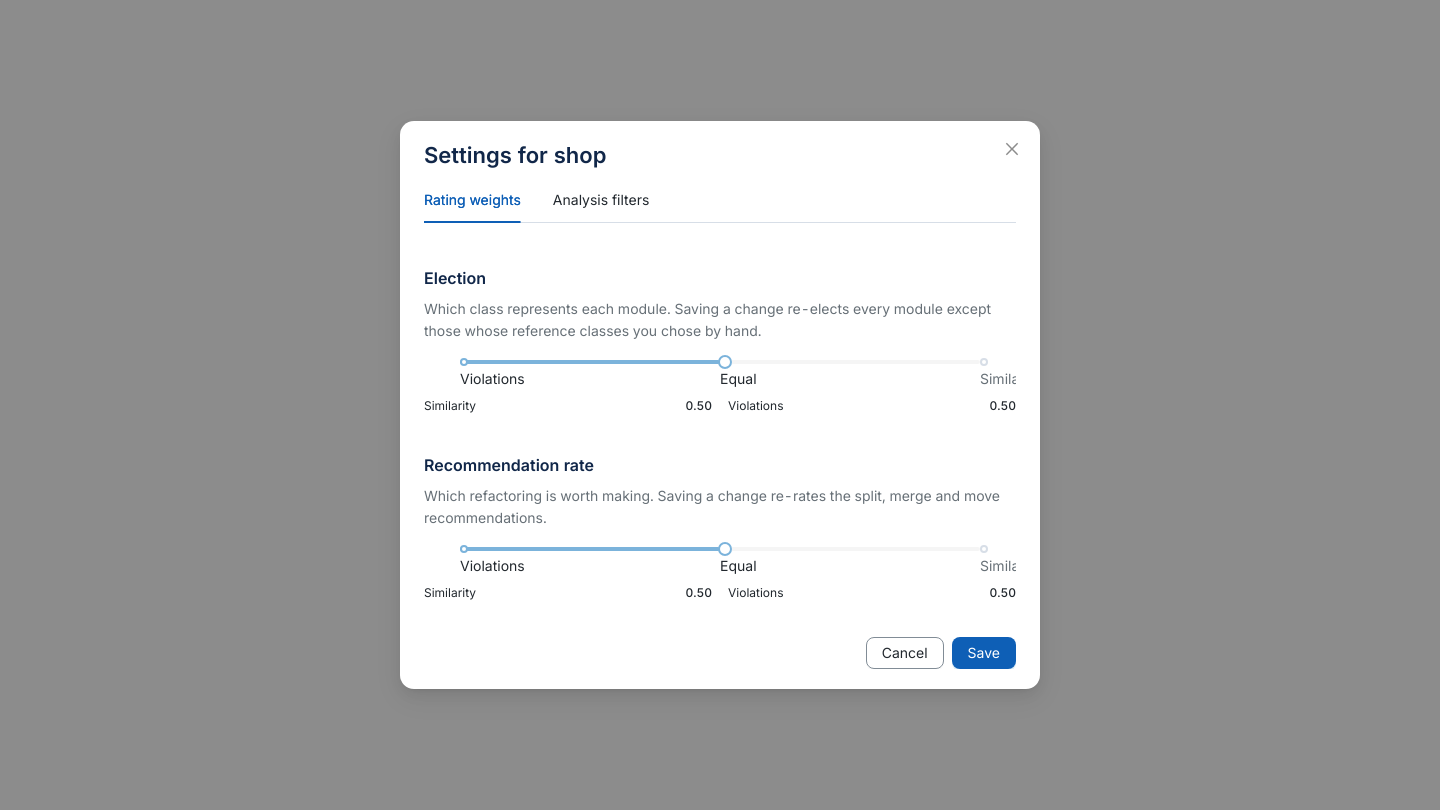
Scenario: SettingsModal › recommendations tab (#36) › shows the project's analysis settings
Click the tab "Analysis filters".
click(601, 200)  # box [553,189,649,211]
(page scrolled)
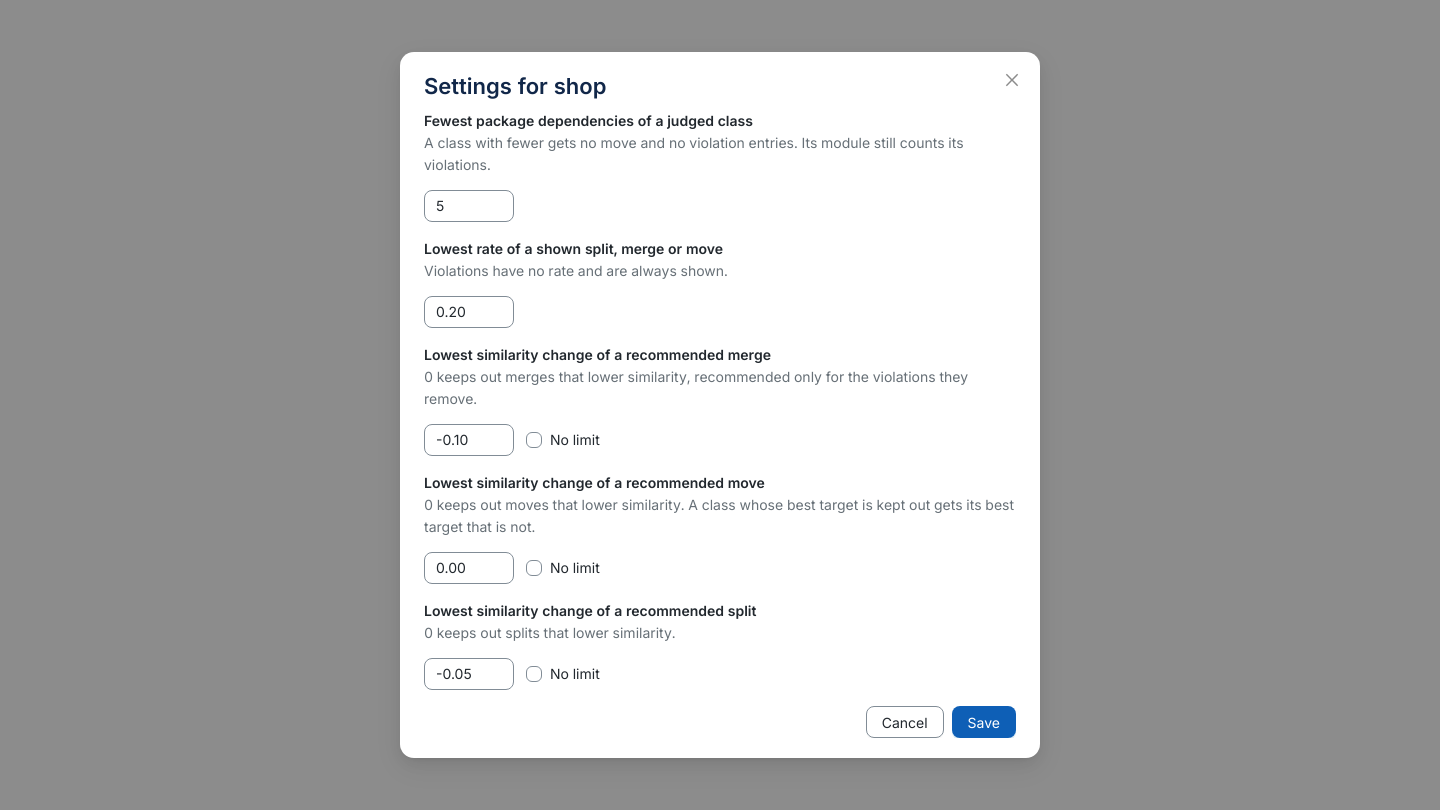
Expected: the 1st checkbox labelled "No limit" is not checked, [526,429,608,451]
Expected: the 2nd checkbox labelled "No limit" is not checked, [526,557,608,579]
Expected: the 3rd checkbox labelled "No limit" is not checked, [526,663,608,685]
